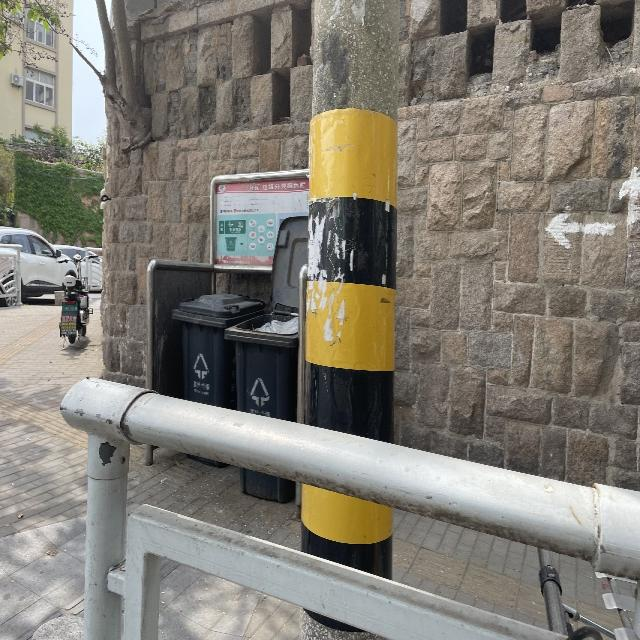garbage_bin: (170, 292, 265, 466)
overflow: (222, 310, 297, 502)
